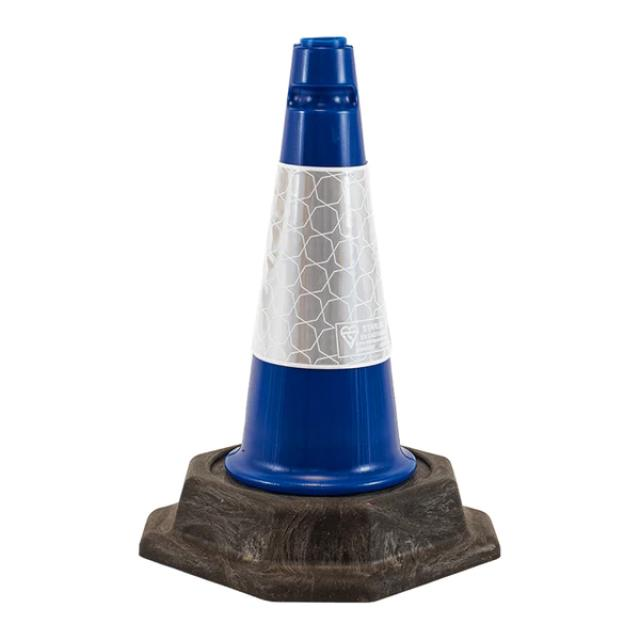Traffic Cone: (94, 16, 574, 640)
